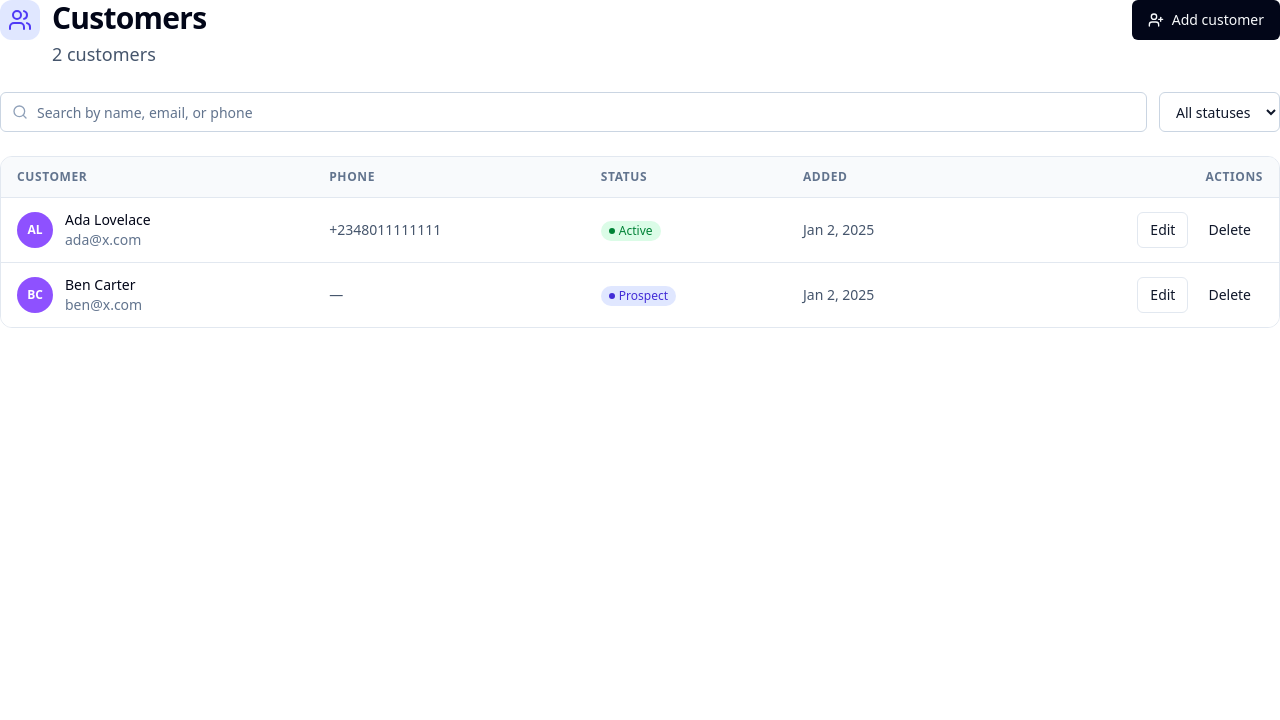
CustomersPage › creates a customer with the exact payload, confirming only after success
Expected: the button "Ada Lovelace" is shown, top-left (65, 210), bottom-right (151, 230)
Click the button "Add customer" at (1206, 20), box top-left (1132, 0), bottom-right (1279, 40)
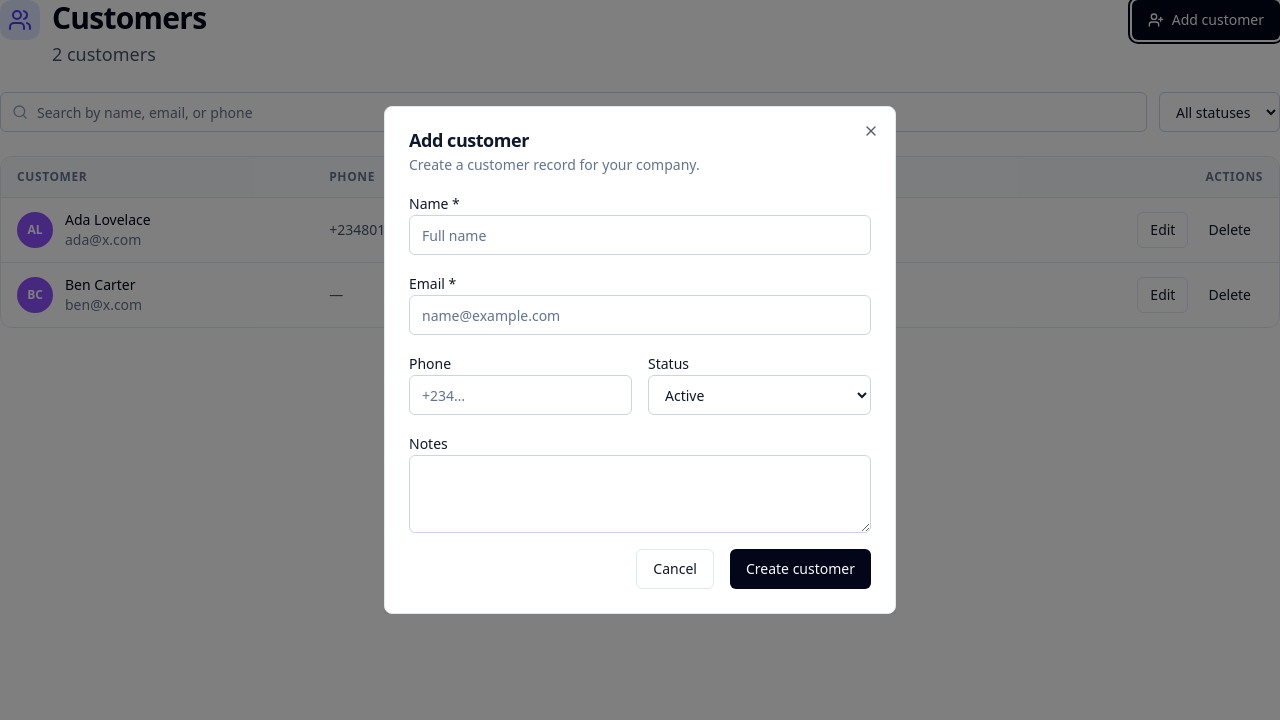
Type "Grace Hopper" into the field labelled "Name *" at (640, 235), box top-left (409, 215), bottom-right (871, 255)
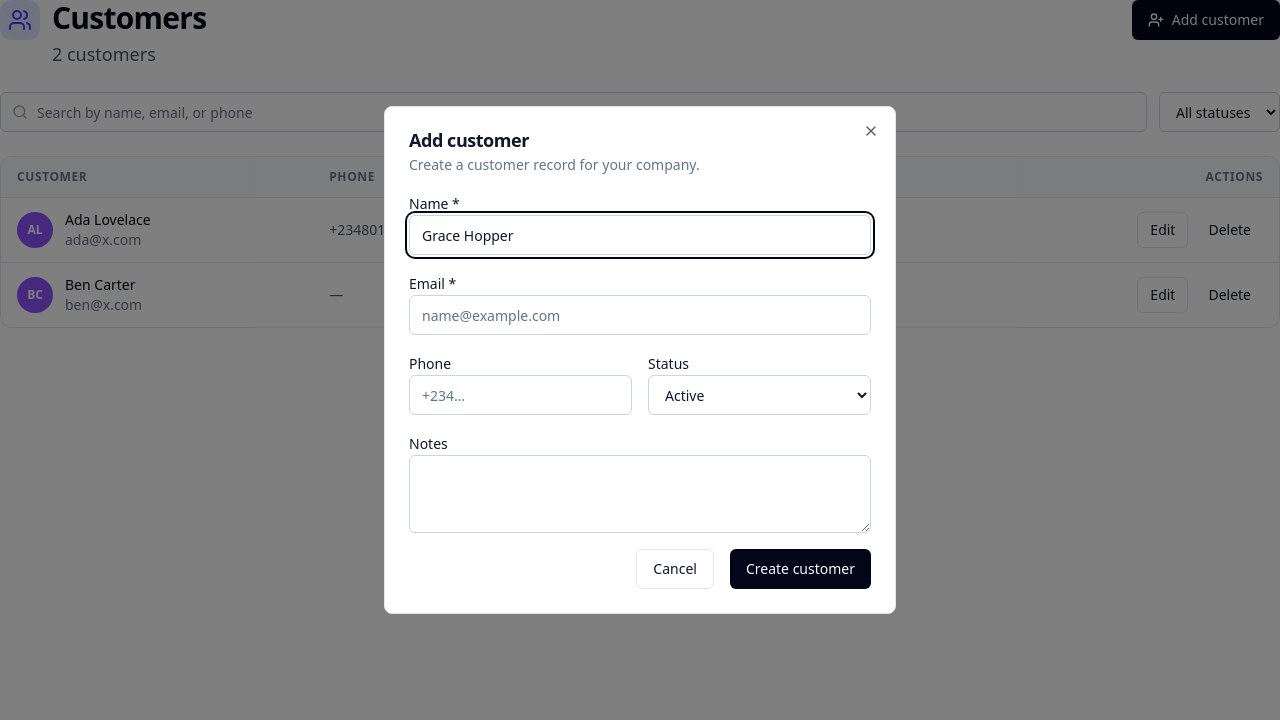
Type "grace@x.com" into the field labelled "Email *" at (640, 315), box top-left (409, 295), bottom-right (871, 335)
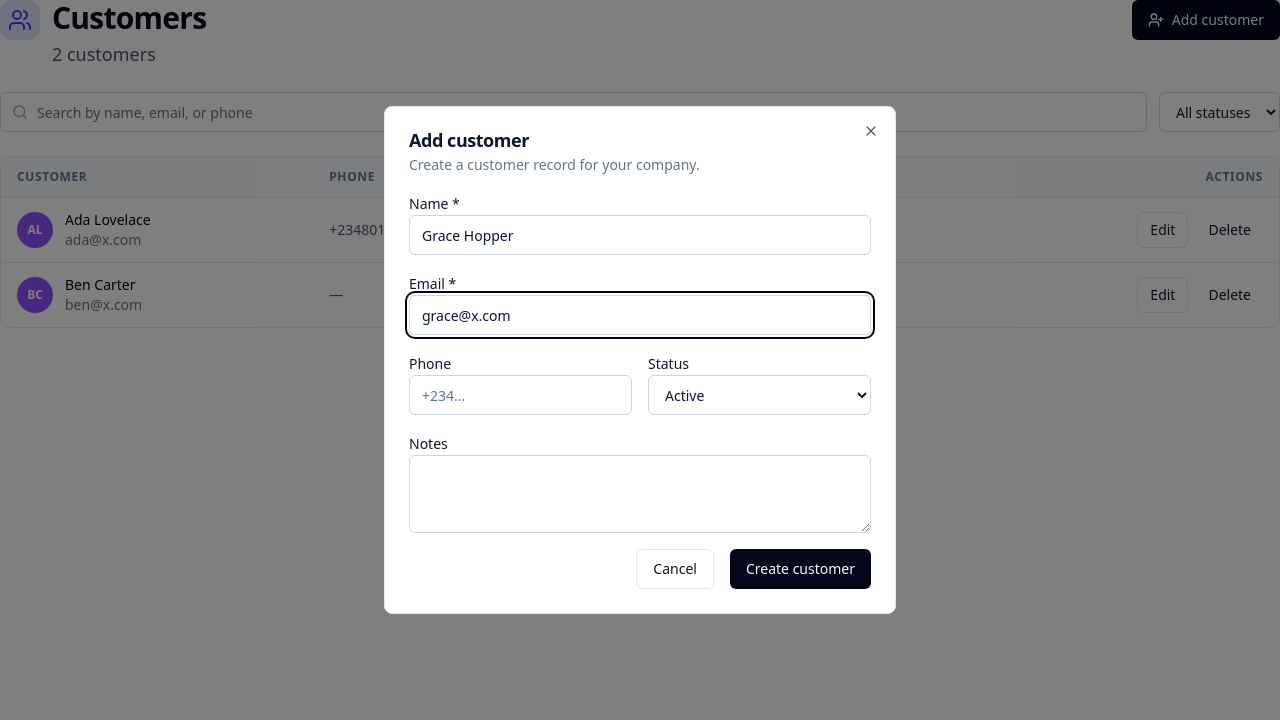
Click the button "Create customer" at (800, 569), box top-left (730, 549), bottom-right (871, 589)
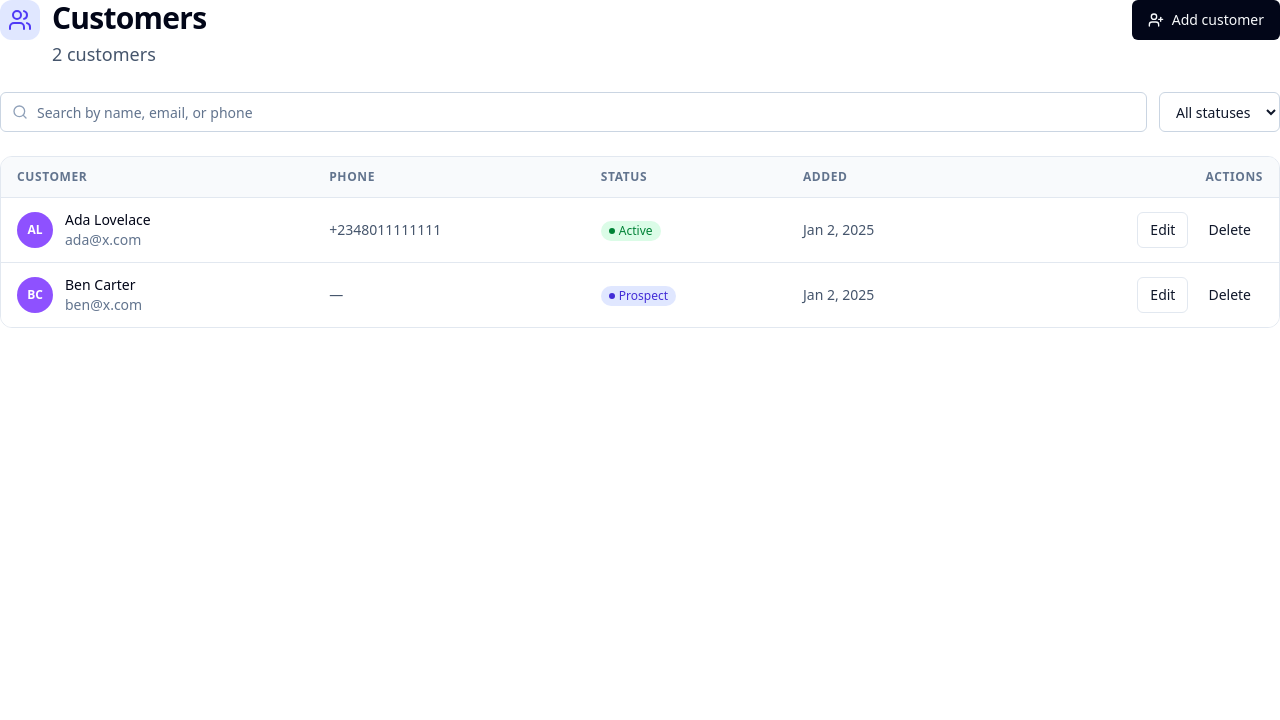
Expected: the dialog is gone
